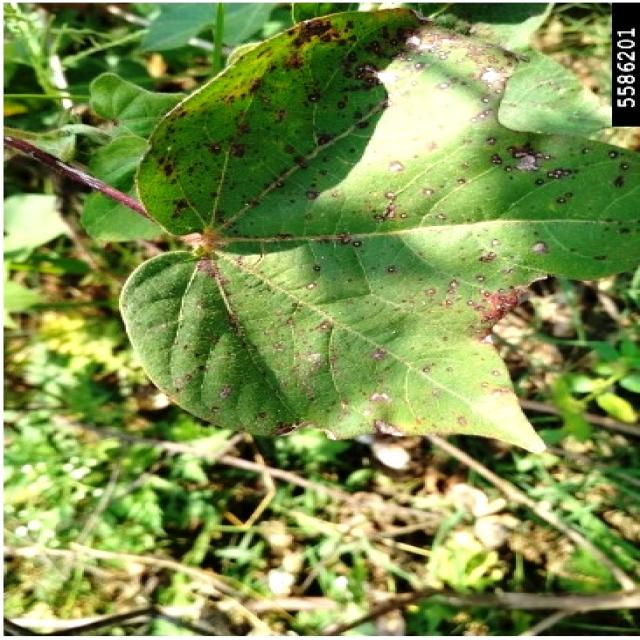Bacterial Blight: (261, 30, 505, 311)
